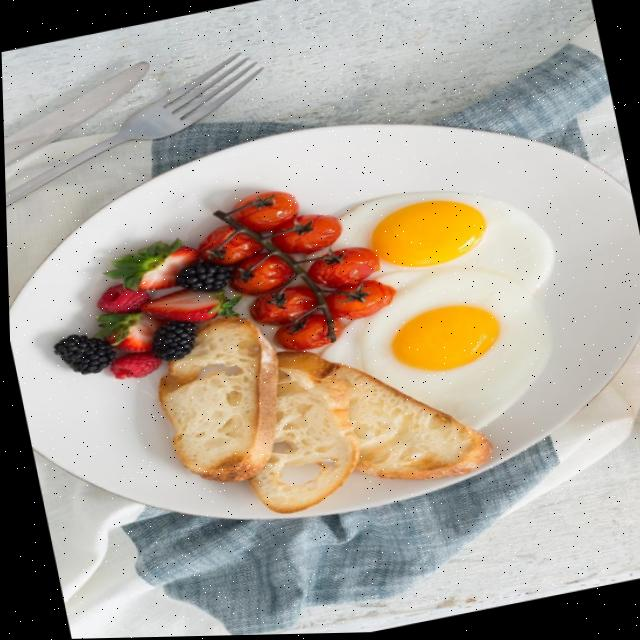Bread: (155, 317, 275, 482), (330, 366, 489, 481), (245, 352, 356, 514)
Egg: (353, 270, 549, 431), (330, 193, 551, 296)
